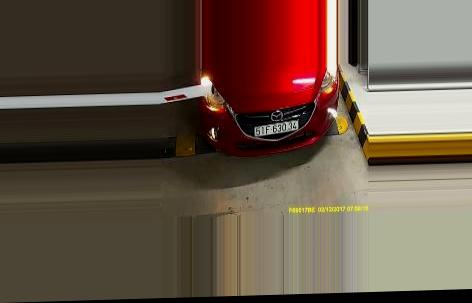License_Plate: (252, 120, 301, 139)
